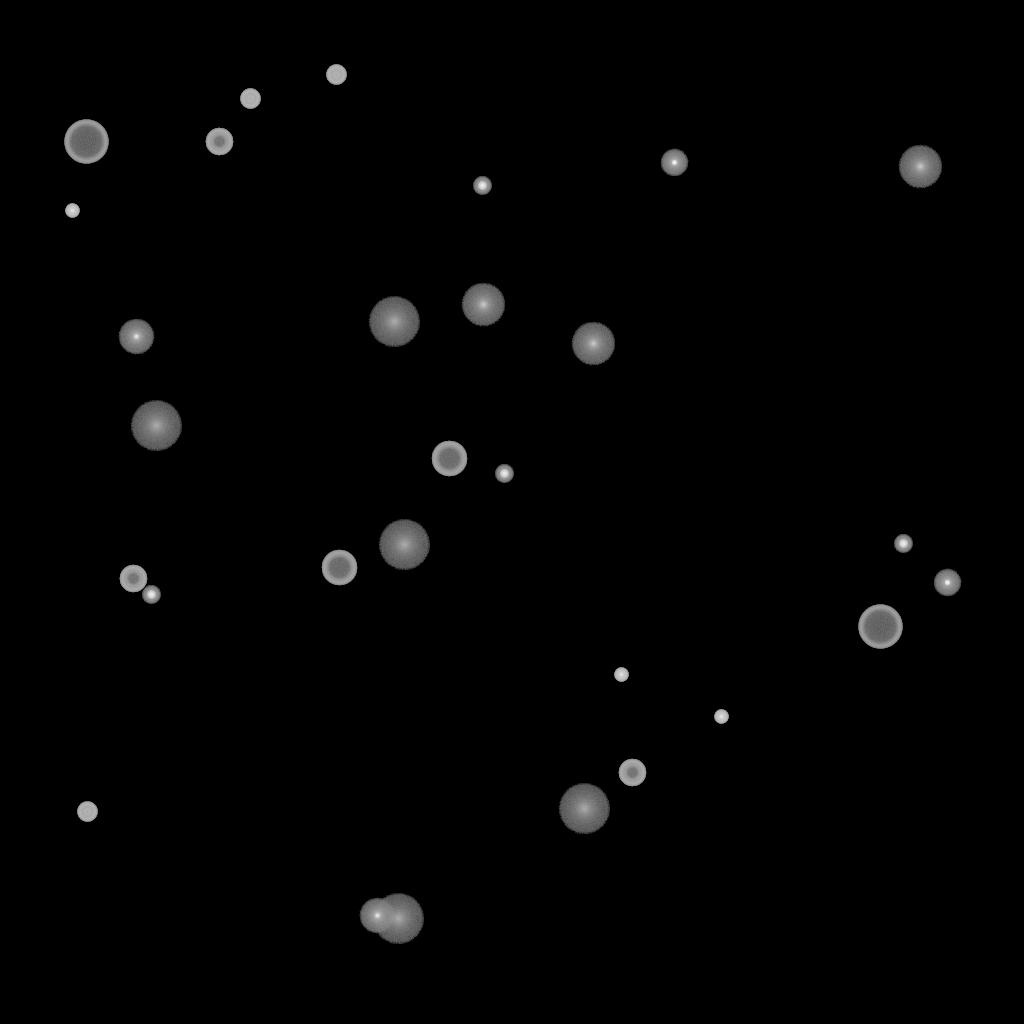depth:-10: (933, 569, 961, 597), (660, 149, 688, 177)
depth:-20: (142, 586, 160, 604), (894, 535, 912, 553), (495, 465, 513, 483), (473, 177, 491, 195)
depth:-30: (614, 668, 628, 682), (65, 204, 79, 218), (714, 710, 728, 724)
depth:-40: (77, 802, 97, 822), (240, 89, 260, 109), (326, 65, 346, 85)
depth:-50: (205, 128, 233, 156), (119, 565, 147, 593), (618, 759, 646, 787)
depth:-60: (321, 550, 357, 586), (431, 441, 467, 477)
depth:-70: (64, 120, 108, 164), (858, 605, 902, 649)
depth:0: (359, 898, 395, 934), (118, 319, 154, 355)
depth:10: (898, 145, 942, 189), (571, 322, 615, 366), (461, 283, 505, 327)
depth:20: (372, 894, 424, 944), (378, 520, 430, 570), (368, 297, 420, 347), (558, 784, 610, 834), (130, 401, 182, 451)
